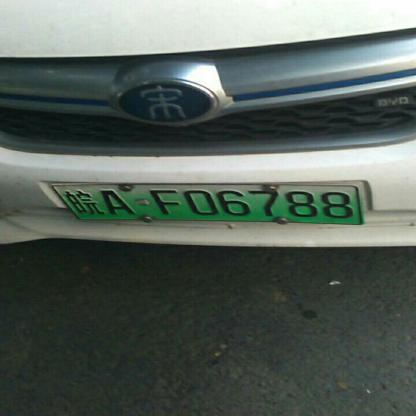lp: (54, 185, 80, 223)
